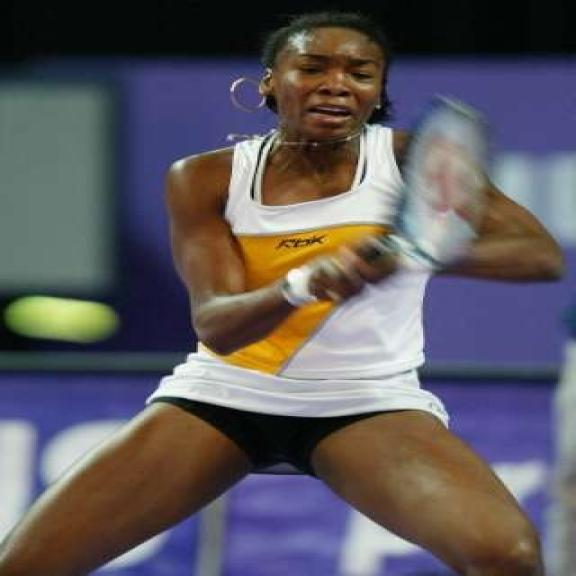face: (257, 32, 385, 140)
